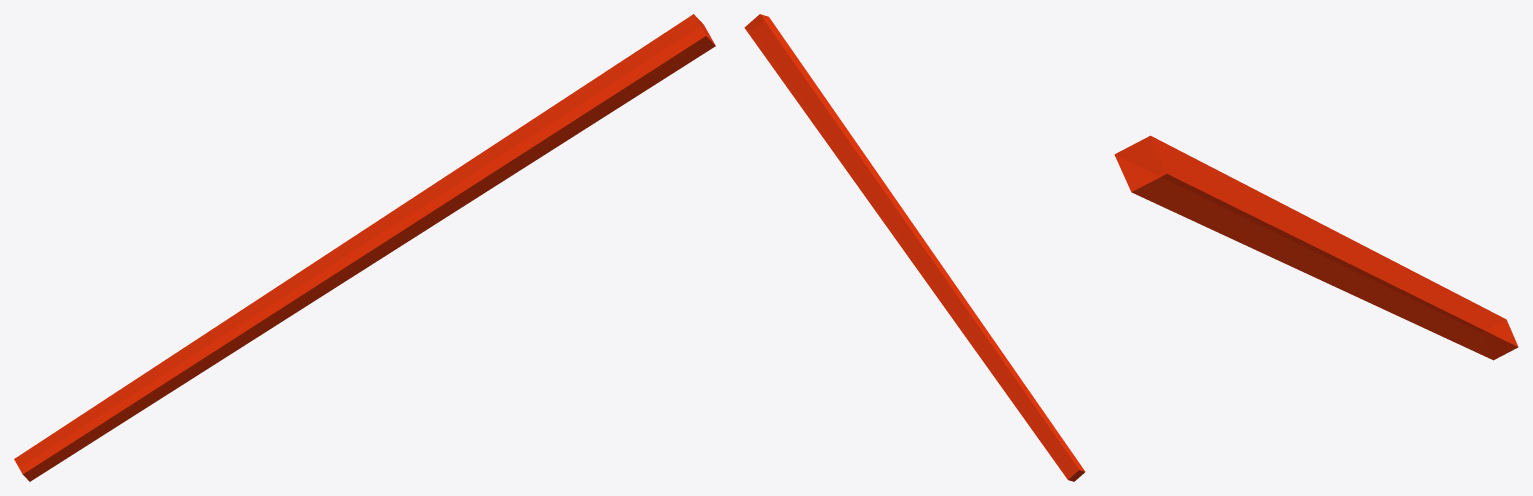
The model's file is Event_421115418_EBrechit_47.fbx.
The picture shows the model from 3 angles, left to right: view 1: azimuth 30°, elevation 25°; view 2: azimuth 150°, elevation 25°; view 3: azimuth 270°, elevation 25°; orthographic projection. The views are drawn at different scales.
Visible parts, largest first — view 1: Model; view 2: Model; view 3: Model.
Part boxes in pixels (bbox=[...]): Model: bbox=[14, 14, 715, 481]; Model: bbox=[744, 14, 1085, 481]; Model: bbox=[1114, 135, 1518, 360].
Bounding box in the file's own units: 1.85 × 1.3 × 0.7729.
